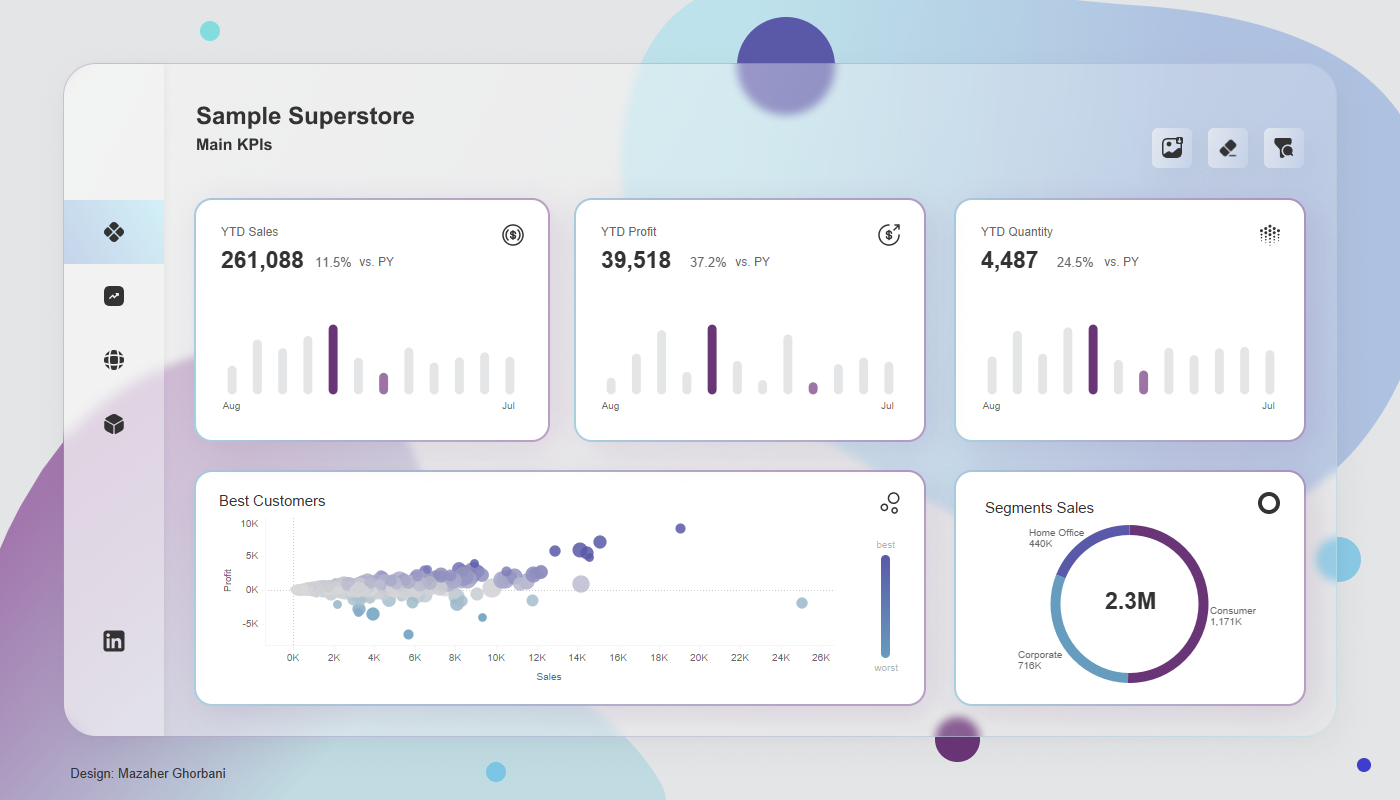

The dashboard page shown, as its layout file describes it:
{"tool":"tableau","page":{"name":"Main KPIs","canvas":[1400,800],"ordinal":0},"visuals":[{"type":"image","param":"Image/Main KPIs.png","box":[0,0,1400,800]},{"type":"dashboard-object","box":[1160,136,24,24]},{"type":"worksheet","title":"Reset Filters","mark":"Shape","cols":["Calculation_707909609538879489"],"box":[1216,136,24,24]},{"type":"dashboard-object","box":[1272,136,24,24]},{"type":"filter","title":"Sales","param":"[federated.0edz2lz09zrftf18khcru1ptet20].[none:Category:nk]","box":[1120,181,174,54]},{"type":"dashboard-object","box":[64,200,100,64]},{"type":"worksheet","title":"YTD Sales","mark":"Text","box":[217,219,144,70]},{"type":"worksheet","title":"YTD Profit","mark":"Text","box":[597,219,144,70]},{"type":"worksheet","title":"YTD Quantity","mark":"Text","box":[977,219,170,70]},{"type":"filter","title":"Sales","param":"[federated.0edz2lz09zrftf18khcru1ptet20].[none:Sub-Category:nk]","box":[1120,235,174,54]},{"type":"text","box":[356,247,56,30]},{"type":"text","box":[732,247,56,30]},{"type":"text","box":[1101,247,56,30]},{"type":"worksheet","title":"YOY Sales","mark":"Automatic","rows":["Order Date"],"box":[296,253,76,26]},{"type":"worksheet","title":"YOY Profit","mark":"Automatic","rows":["Order Date"],"box":[671,253,76,26]},{"type":"worksheet","title":"YOY Quantity","mark":"Automatic","rows":["Order Date"],"box":[1038,253,76,26]},{"type":"dashboard-object","box":[64,264,100,64]},{"type":"filter","title":"Sales","param":"[federated.0edz2lz09zrftf18khcru1ptet20].[none:State/Province:nk]","box":[1120,289,174,54]},{"type":"worksheet","title":"Sales","mark":"Line","cols":["Order Date"],"box":[219,321,303,96]},{"type":"worksheet","title":"Profit","mark":"Line","cols":["Order Date"],"box":[598,321,303,96]},{"type":"worksheet","title":"Quantity","mark":"Line","cols":["Order Date"],"box":[979,321,303,96]},{"type":"dashboard-object","box":[64,328,100,64]},{"type":"filter","title":"Sales","param":"[federated.0edz2lz09zrftf18khcru1ptet20].[none:City:nk]","box":[1120,343,174,54]},{"type":"dashboard-object","box":[64,392,100,64]},{"type":"filter","title":"Sales","param":"[federated.0edz2lz09zrftf18khcru1ptet20].[none:Segment:nk]","box":[1120,397,174,54]},{"type":"blank","box":[244,398,254,27]},{"type":"blank","box":[624,398,254,27]},{"type":"blank","box":[1005,402,254,27]},{"type":"dashboard-object","box":[64,456,100,64]},{"type":"worksheet","title":"Scatter","mark":"Automatic","rows":["Total Sales (copy)_1713056751226064918"],"cols":["Calculation_1713056751028776960"],"box":[215,486,618,204]},{"type":"worksheet","title":"Segment Sales","mark":"Pie","cols":["Calculation_1713056751349825580","Calculation_1713056751349841966"],"box":[981,493,297,190]},{"type":"text","box":[873,530,46,30]},{"type":"worksheet","title":"YTD Sales (2)","mark":"Text","box":[1101,589,88,51]},{"type":"text","box":[871,653,46,30]}]}

Visuals, with their boxes in screenshot pixels (x1, y1, x2, y2), scaled from the page's 1400x800 canvas onto the 1400x800 screenshot:
image: (0, 0, 1399, 799)
dashboard-object: (1160, 136, 1184, 160)
"Reset Filters" worksheet (Shape marks): (1216, 136, 1240, 160)
dashboard-object: (1272, 136, 1296, 160)
"Sales" filter: (1120, 181, 1294, 235)
dashboard-object: (64, 200, 164, 264)
"YTD Sales" worksheet (Text marks): (217, 219, 361, 289)
"YTD Profit" worksheet (Text marks): (597, 219, 741, 289)
"YTD Quantity" worksheet (Text marks): (977, 219, 1147, 289)
"Sales" filter: (1120, 235, 1294, 289)
text: (356, 247, 412, 277)
text: (732, 247, 788, 277)
text: (1101, 247, 1157, 277)
"YOY Sales" worksheet: (296, 253, 372, 279)
"YOY Profit" worksheet: (671, 253, 747, 279)
"YOY Quantity" worksheet: (1038, 253, 1114, 279)
dashboard-object: (64, 264, 164, 328)
"Sales" filter: (1120, 289, 1294, 343)
"Sales" worksheet (Line marks): (219, 321, 522, 417)
"Profit" worksheet (Line marks): (598, 321, 901, 417)
"Quantity" worksheet (Line marks): (979, 321, 1282, 417)
dashboard-object: (64, 328, 164, 392)
"Sales" filter: (1120, 343, 1294, 397)
dashboard-object: (64, 392, 164, 456)
"Sales" filter: (1120, 397, 1294, 451)
blank: (244, 398, 498, 425)
blank: (624, 398, 878, 425)
blank: (1005, 402, 1259, 429)
dashboard-object: (64, 456, 164, 520)
"Scatter" worksheet: (215, 486, 833, 690)
"Segment Sales" worksheet (Pie marks): (981, 493, 1278, 683)
text: (873, 530, 919, 560)
"YTD Sales (2)" worksheet (Text marks): (1101, 589, 1189, 640)
text: (871, 653, 917, 683)
